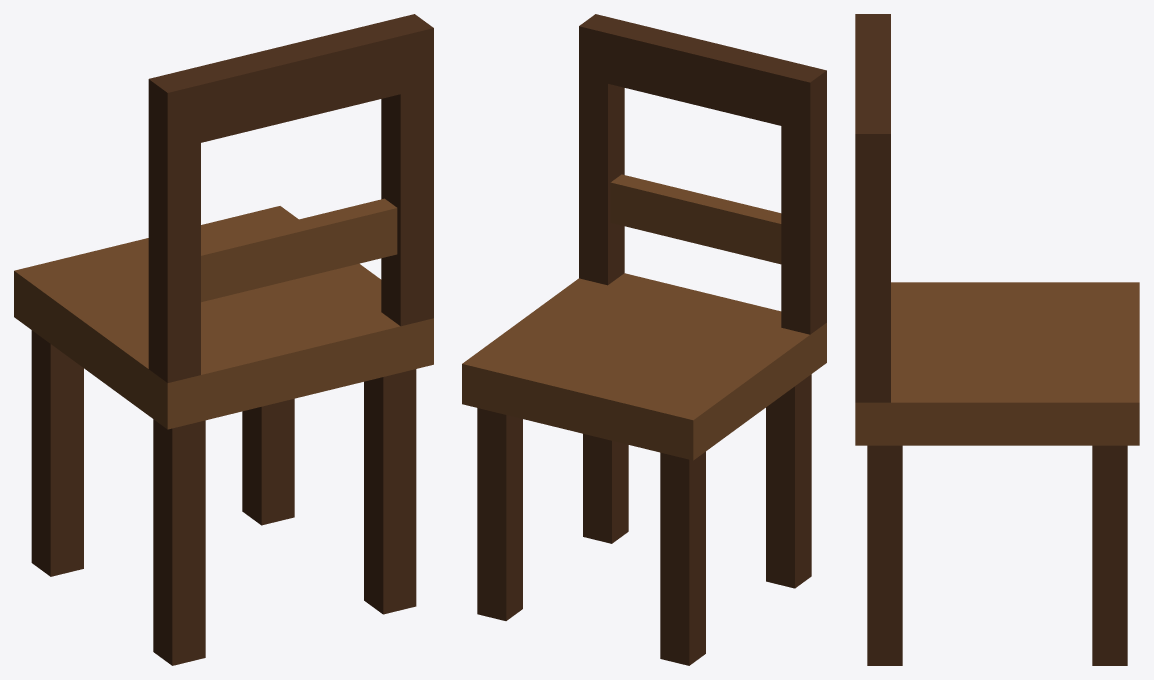
File: tv-chair.glb
3 renders of one model, left to right at view 1: azimuth 30°, elevation 25°; view 2: azimuth 150°, elevation 25°; view 3: azimuth 270°, elevation 25°, orthographic. The views are drawn at different scales.
Visible parts, largest first — view 1: box-prop; view 2: box-prop; view 3: box-prop.
Part boxes in pixels (box(x1,y1,x2,y2)): box-prop: box(14, 14, 433, 665); box-prop: box(462, 14, 826, 665); box-prop: box(855, 14, 1139, 665).
Bounding box in the file's own units: 0.48 × 1 × 0.48.
